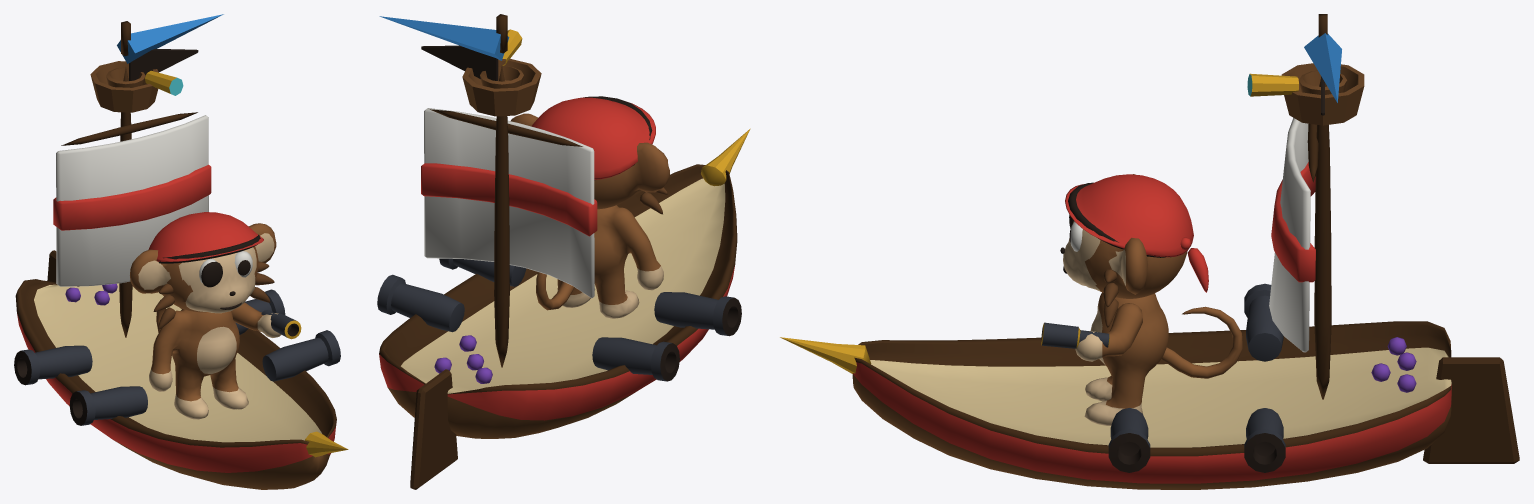
The picture shows the model from 3 angles, left to right: view 1: azimuth 30°, elevation 25°; view 2: azimuth 150°, elevation 25°; view 3: azimuth 270°, elevation 25°; orthographic projection. The views are drawn at different scales.
Parts seen in each view (by area): view 1: bucaneiro_0_base, bucaneiro_3_cabeca, bucaneiro_1_corpo, bucaneiro_4_braco; view 2: bucaneiro_0_base, bucaneiro_3_cabeca, bucaneiro_1_corpo, bucaneiro_2_cauda; view 3: bucaneiro_0_base, bucaneiro_3_cabeca, bucaneiro_1_corpo, bucaneiro_4_braco, bucaneiro_2_cauda.
Boxes of the visible parts, x1,y1,x2,y2 form: bucaneiro_0_base: [14, 14, 348, 489]; bucaneiro_3_cabeca: [130, 212, 276, 329]; bucaneiro_1_corpo: [149, 309, 248, 419]; bucaneiro_4_braco: [231, 302, 301, 339]; bucaneiro_0_base: [377, 14, 750, 489]; bucaneiro_3_cabeca: [510, 96, 669, 214]; bucaneiro_1_corpo: [557, 205, 663, 318]; bucaneiro_2_cauda: [536, 272, 574, 310]; bucaneiro_0_base: [780, 14, 1519, 489]; bucaneiro_3_cabeca: [1060, 174, 1208, 327]; bucaneiro_1_corpo: [1084, 292, 1168, 425]; bucaneiro_4_braco: [1041, 303, 1142, 361]; bucaneiro_2_cauda: [1161, 306, 1242, 378].
Size of the model in its own units: 1.12 by 1.54 by 2.3.
